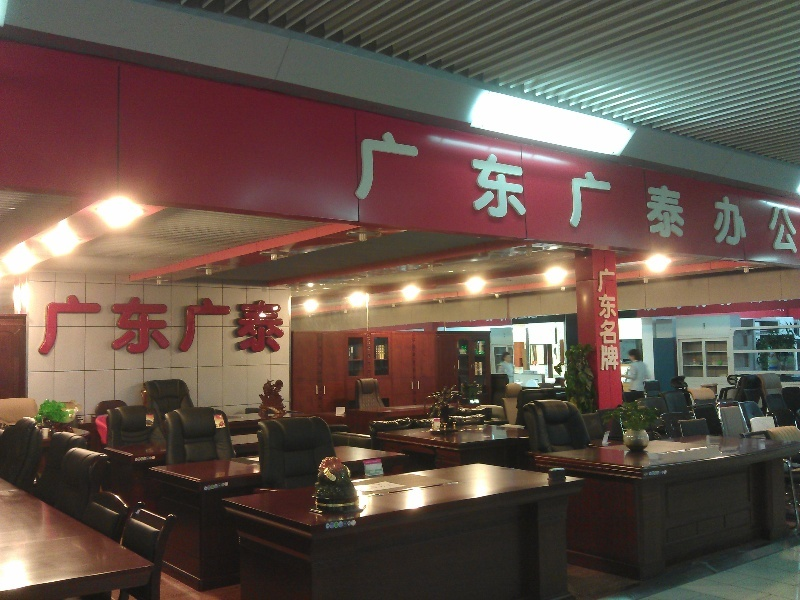text: (353, 124, 368, 258), (369, 124, 384, 258), (385, 124, 400, 258), (401, 124, 416, 258), (417, 124, 432, 258), (433, 124, 448, 258), (449, 124, 464, 258), (465, 124, 480, 258), (481, 124, 496, 258), (497, 124, 512, 258), (513, 124, 528, 258), (529, 124, 544, 258), (545, 124, 560, 258), (561, 124, 576, 258), (577, 124, 592, 258), (593, 124, 608, 258), (609, 124, 624, 258), (625, 124, 640, 258), (641, 124, 656, 258), (657, 124, 672, 258), (673, 124, 688, 258), (689, 124, 704, 258), (705, 124, 720, 258), (721, 124, 736, 258), (737, 124, 752, 258), (753, 124, 768, 258), (769, 124, 784, 258), (785, 124, 798, 258), (596, 267, 608, 373), (609, 267, 620, 373), (49, 293, 64, 358), (65, 293, 80, 358), (81, 293, 96, 358), (97, 293, 112, 358), (113, 293, 128, 358), (129, 293, 144, 358), (145, 293, 160, 358), (161, 293, 176, 358), (177, 293, 192, 358), (193, 293, 208, 358), (209, 293, 224, 358), (225, 293, 240, 358), (241, 293, 256, 358), (257, 293, 272, 358), (273, 293, 286, 358), (36, 293, 48, 358)
